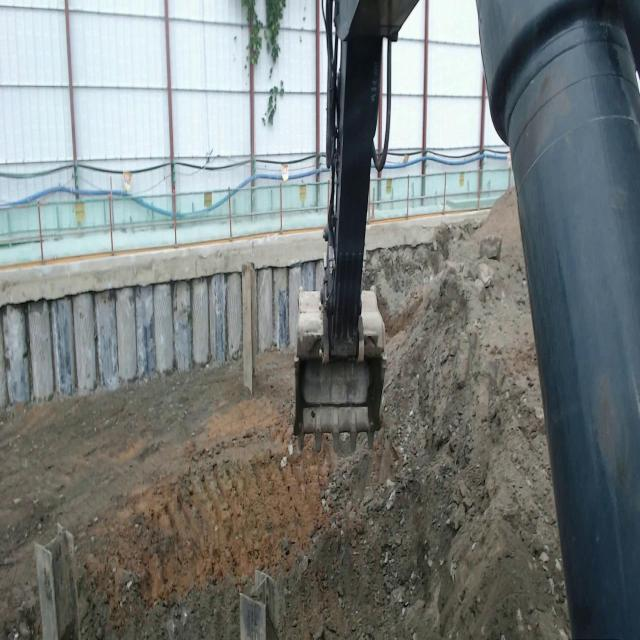cement: (0, 230, 325, 306), (365, 210, 489, 251)
red-sand: (0, 191, 570, 639)
